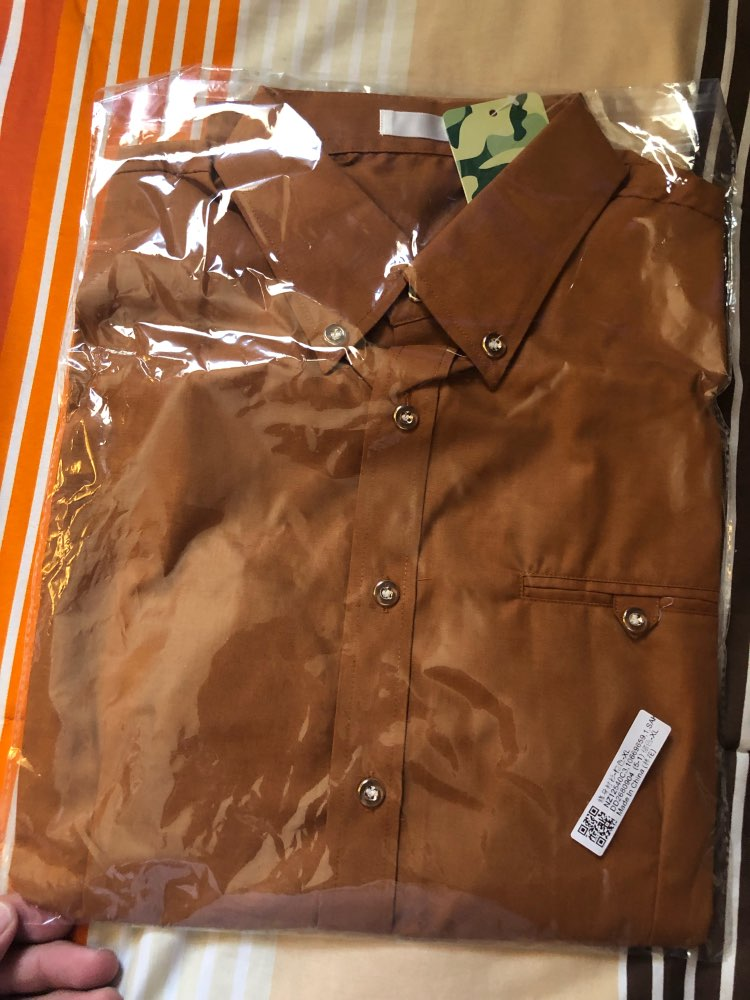shirts: (56, 122, 727, 920)
